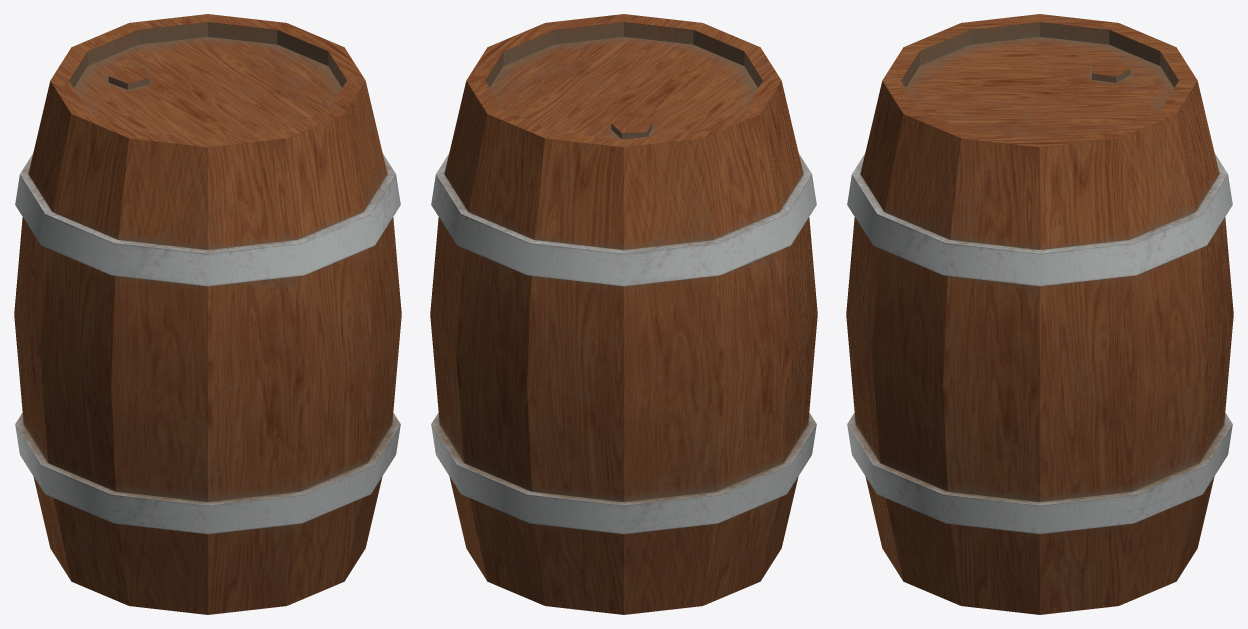
File: barrel.gltf
The picture shows the model from 3 angles, left to right: view 1: azimuth 30°, elevation 25°; view 2: azimuth 150°, elevation 25°; view 3: azimuth 270°, elevation 25°; orthographic projection.
Parts seen in each view (by area): view 1: Barrel; view 2: Barrel; view 3: Barrel.
Part boxes in pixels (<box>): Barrel: <box>14,14,401,614</box>; Barrel: <box>430,14,817,614</box>; Barrel: <box>846,14,1233,614</box>.
Size of the model in its own units: 0.6759 by 0.9 by 0.6759.
1 material, 1 textured.
